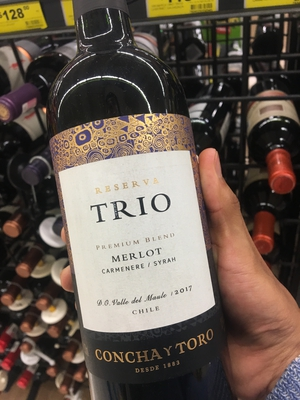trio merlot: (50, 8, 242, 400)
